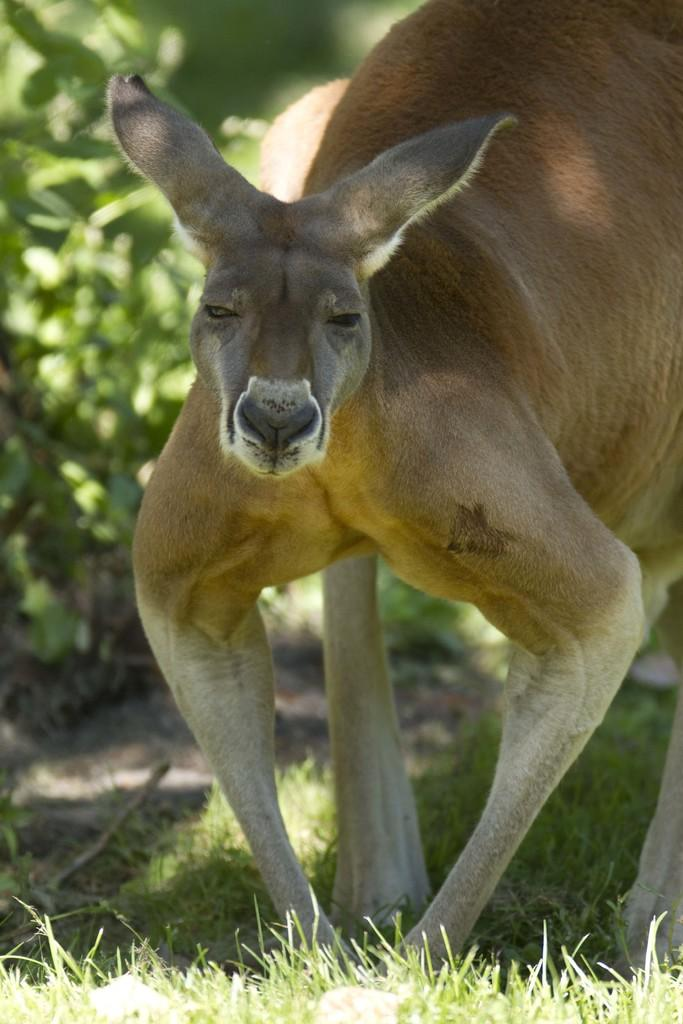kangaroo: (100, 0, 682, 984)
